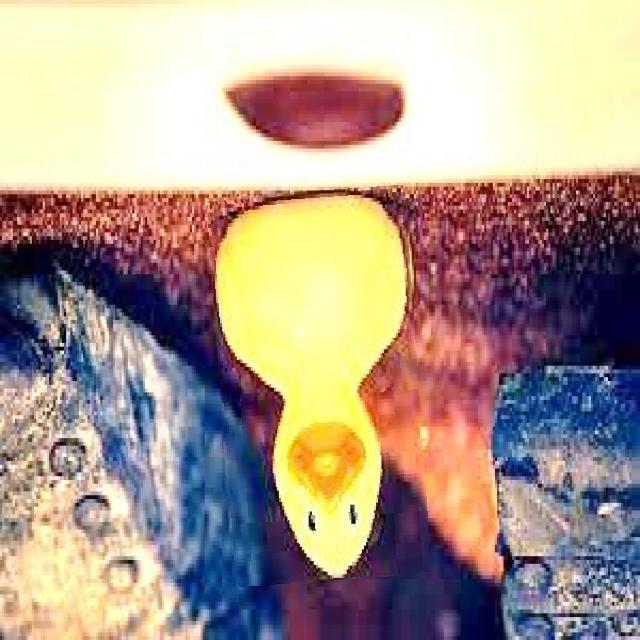rubber-duck: (214, 194, 405, 575)
